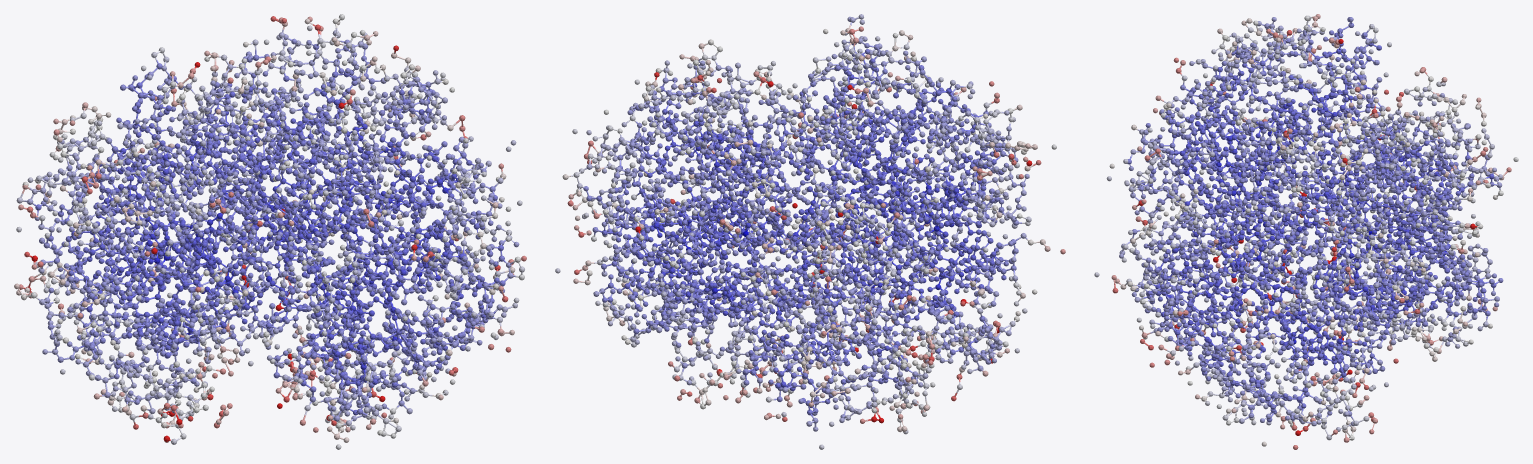
File: 4hhb__ball_and_stick__b-factor.glb
3 views of the same model, side by side, from view 1: azimuth 30°, elevation 25°; view 2: azimuth 150°, elevation 25°; view 3: azimuth 270°, elevation 25° (orthographic). The views are drawn at different scales.
Visible parts, largest first — view 1: Renderer Node; view 2: Renderer Node; view 3: Renderer Node.
Part boxes in pixels (x1,y1,x2,y2): Renderer Node: (14,14,526,449); Renderer Node: (555,14,1065,449); Renderer Node: (1094,14,1518,449).
Size of the model in its own units: 71.05 by 57.91 by 61.55.
